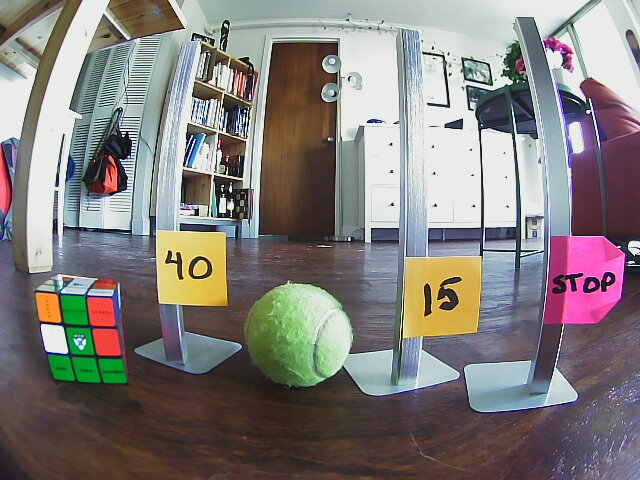15: (407, 262, 474, 330)
40: (163, 234, 223, 305)
ball: (244, 280, 354, 389)
cube: (33, 277, 132, 384)
stop: (549, 253, 620, 307)
